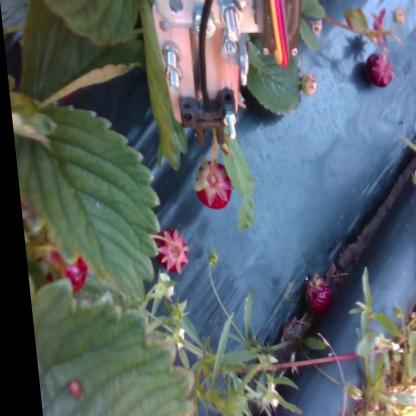ripe: (35, 242, 85, 292), (189, 160, 229, 208), (151, 232, 188, 272), (301, 274, 328, 308), (365, 56, 395, 82)
